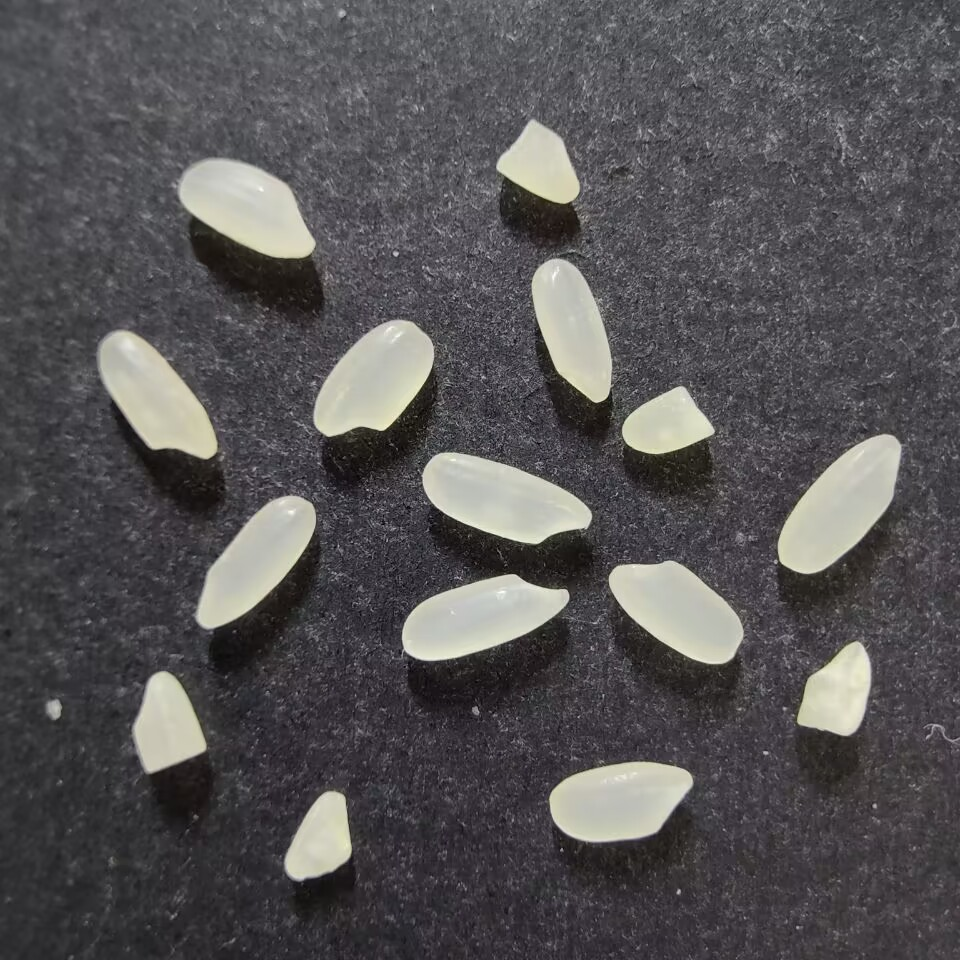broken: (131, 670, 208, 774), (796, 640, 872, 737), (495, 119, 580, 205), (283, 789, 353, 884), (621, 385, 716, 454)
rice: (776, 433, 901, 576), (195, 494, 316, 630), (421, 451, 592, 545), (97, 329, 218, 460), (400, 573, 570, 662), (607, 559, 743, 665), (312, 319, 433, 437), (177, 158, 317, 259), (548, 761, 693, 843), (530, 258, 611, 404)
